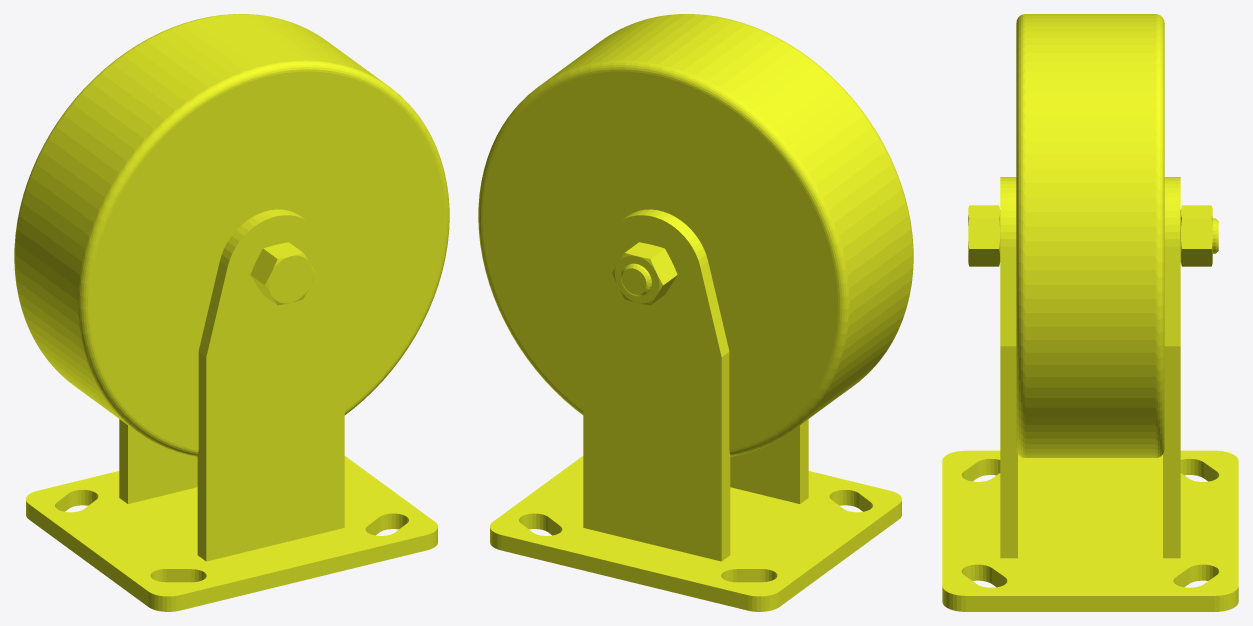
3 renders of one model, left to right at view 1: azimuth 30°, elevation 25°; view 2: azimuth 150°, elevation 25°; view 3: azimuth 270°, elevation 25°, orthographic. The views are drawn at different scales.
Bounding box in the file's own units: 150 × 188 × 100.
